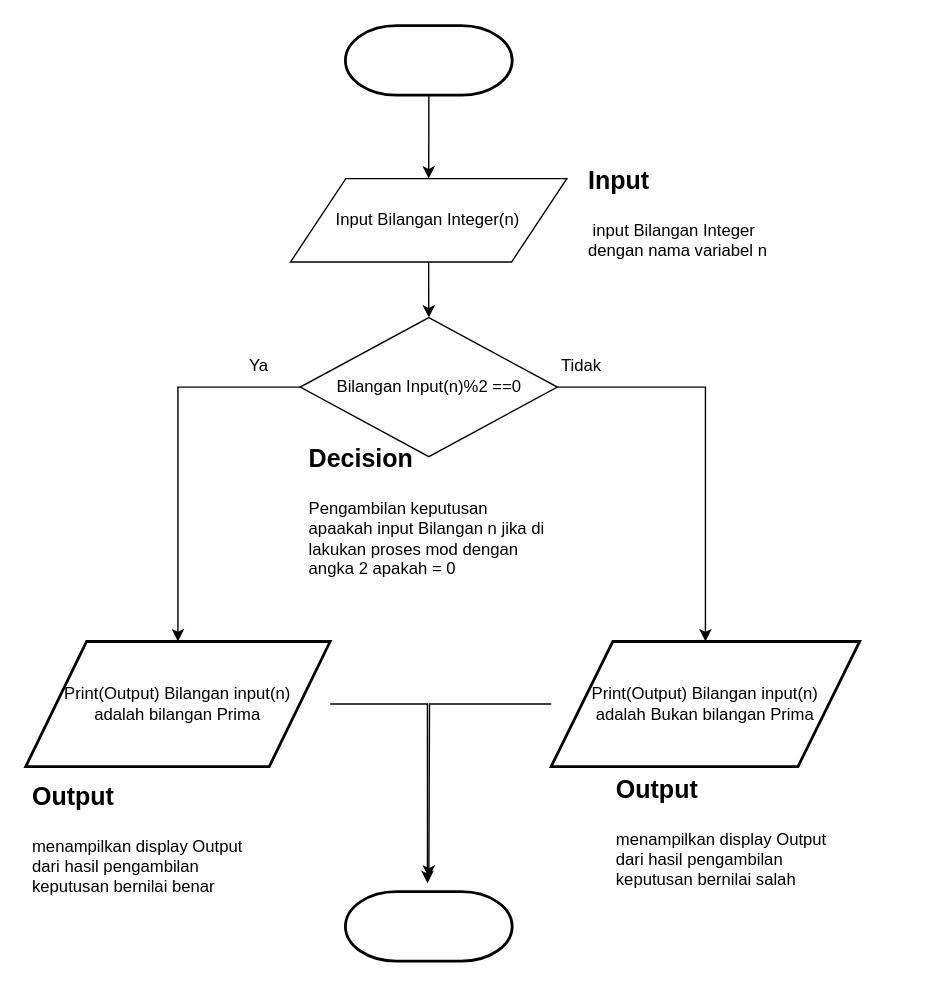
Image size: 952x986. Some labels were removed from this diagram. Here are the shapes that lost their labels. From the top down, the centre of each, then its label:
At [428,60]: "Start".
At [428,926]: "End".
